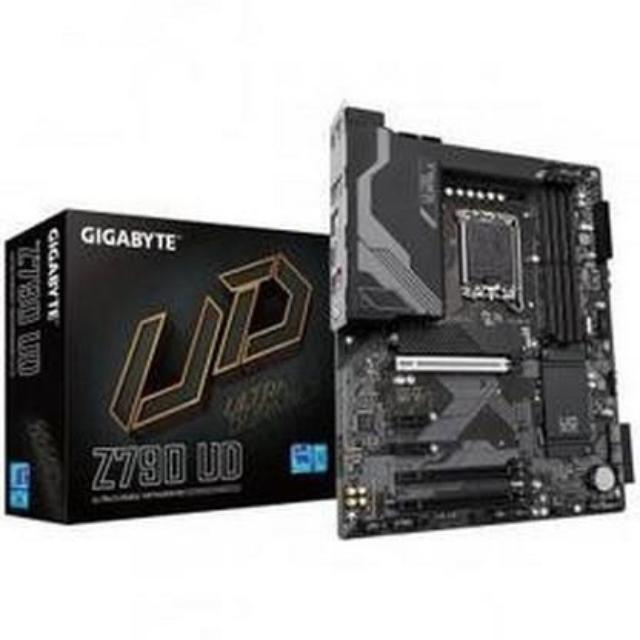Mainboard: (320, 103, 634, 534)
